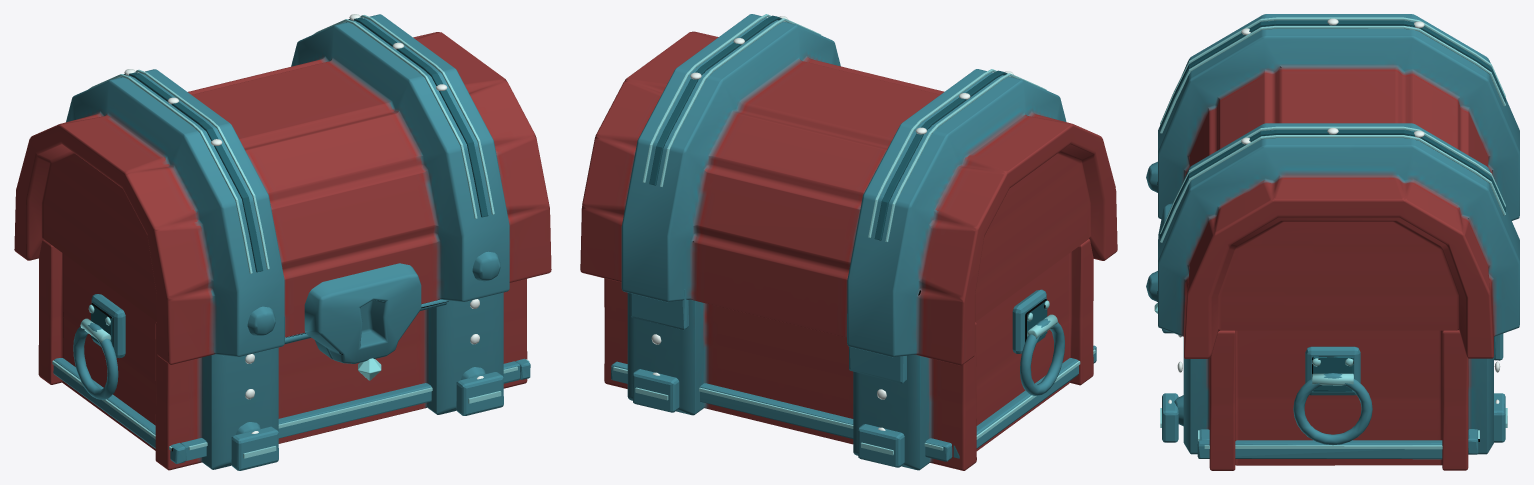
Rendered from tideguard.glb.
3 renders of one model, left to right at view 1: azimuth 30°, elevation 25°; view 2: azimuth 150°, elevation 25°; view 3: azimuth 270°, elevation 25°, orthographic.
Visible parts, largest first — view 1: LidShell, Body; view 2: LidShell, Body; view 3: LidShell, Body.
Boxes of the visible parts, <box> form: LidShell: <box>14,14,551,364</box>; Body: <box>38,239,530,470</box>; LidShell: <box>580,14,1117,365</box>; Body: <box>604,239,1096,470</box>; LidShell: <box>1146,14,1519,358</box>; Body: <box>1154,303,1507,470</box>.
Bounding box in the file's own units: 2.04 × 1.56 × 1.7.
Materials: 2 (2 with a texture image).
